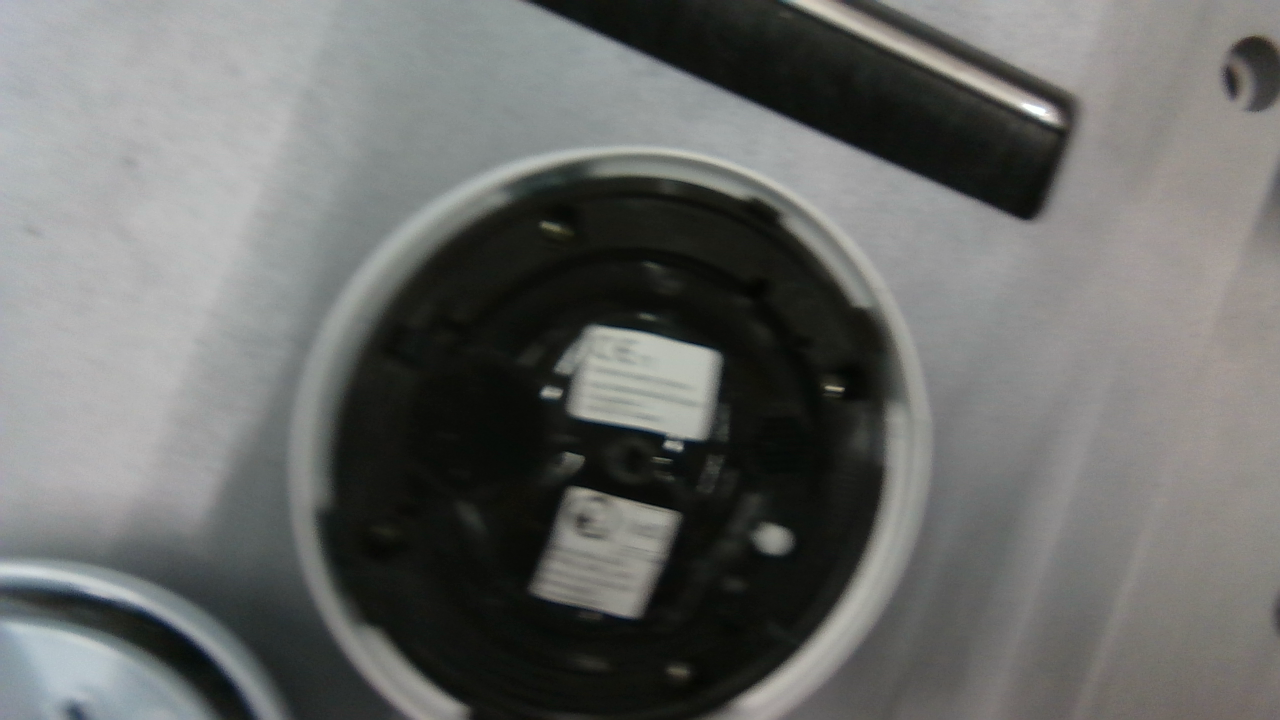HexScrew: (540, 218, 575, 242), (666, 664, 698, 688), (825, 370, 844, 404)
